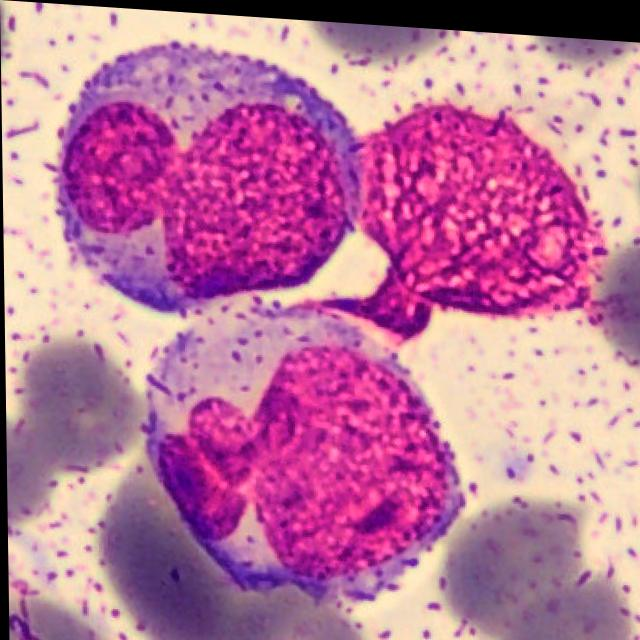Mieloblasto: (145, 292, 464, 595), (56, 38, 358, 310)
Restos celulares: (351, 96, 606, 309)
